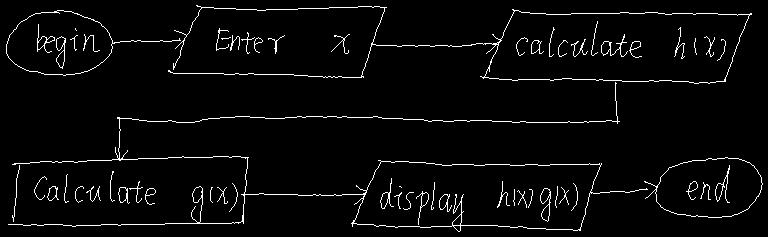arrow: (115, 82, 619, 160), (371, 34, 501, 53), (241, 185, 366, 204), (112, 30, 186, 48), (591, 181, 657, 198)
data: (480, 9, 751, 83), (351, 160, 601, 230), (168, 5, 386, 77)
process: (8, 156, 248, 226)
terminator: (6, 10, 112, 75), (655, 157, 762, 217)
text: (380, 178, 577, 231), (34, 171, 237, 222), (516, 21, 725, 60), (216, 28, 349, 53), (37, 24, 99, 68), (686, 165, 729, 202)
